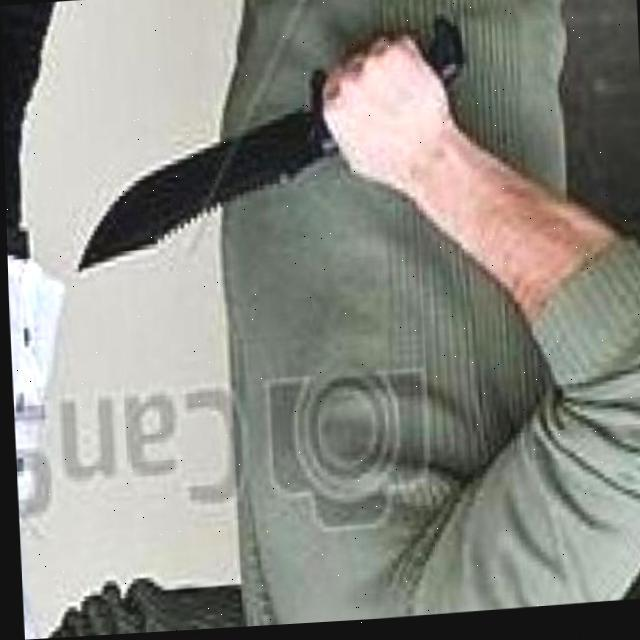knife: (66, 18, 473, 276)
